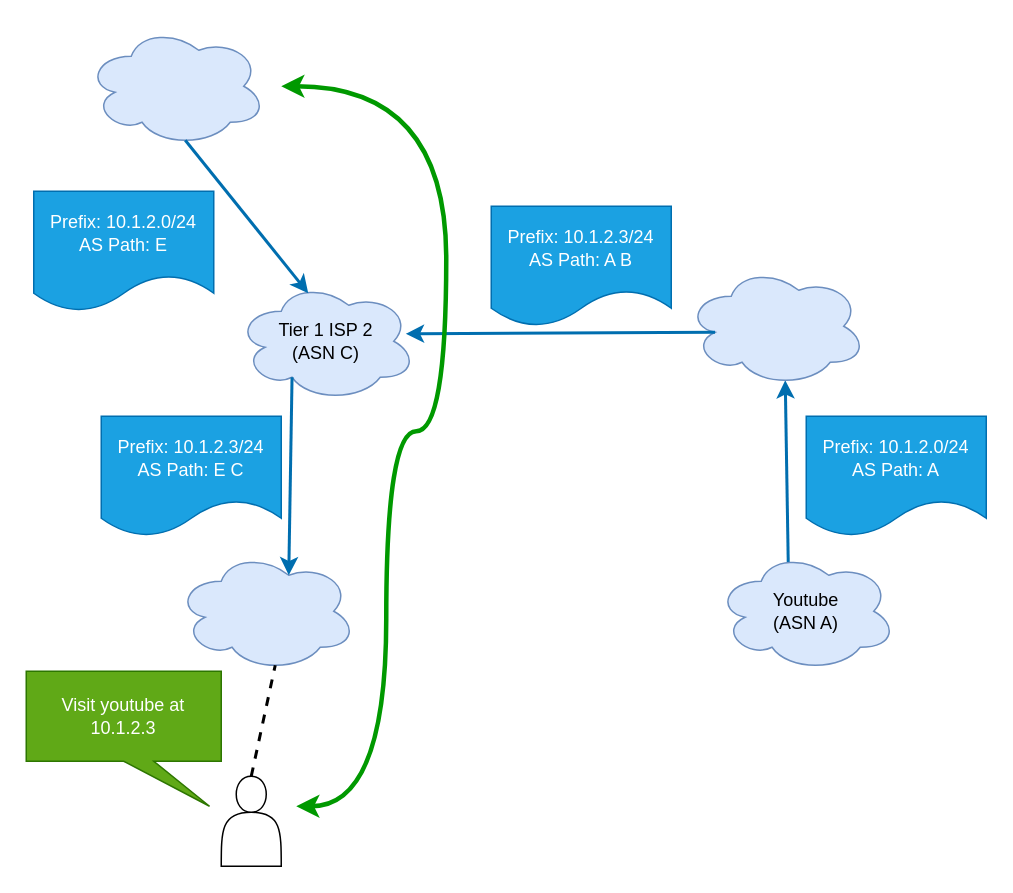
The diagram is 1013 pixels wide and 893 high, and some of its shapes have lost their labels. Each missing label, with the centre of its shape:
Residential ISP (ASN D): pixel 265 610
State Run ISP (ASN E): pixel 175 85
Tier 1 ISP 1 (ASN B): pixel 775 325
